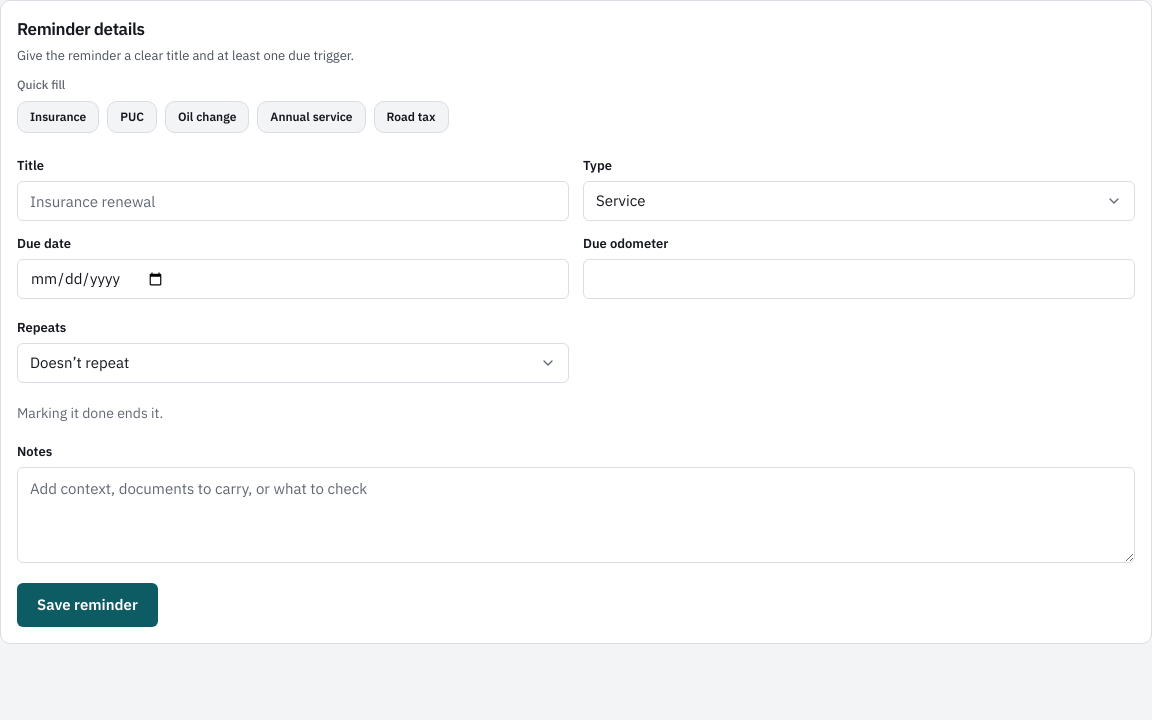
ReminderForm › fills a 6-month rule from the PUC quick fill
This screenshot has width=1152, height=720.
Click the button "PUC": (132,117) [107,101,157,133]
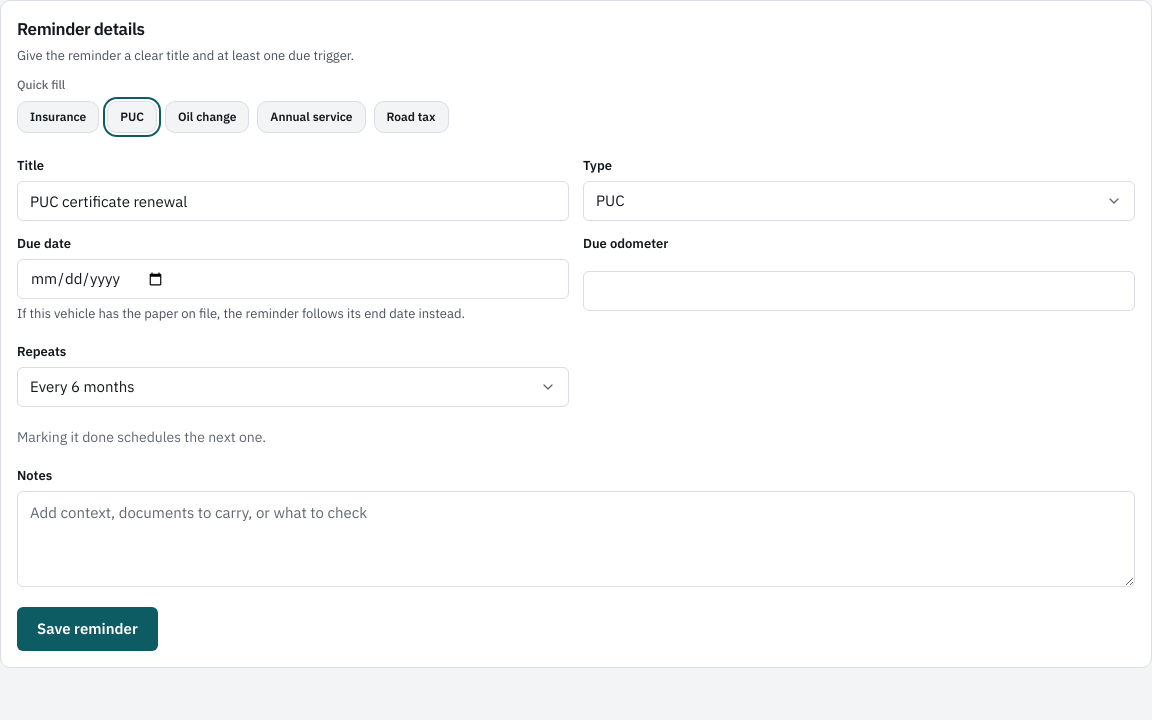
Now the dropdown named "repeats" reads "Every 6 months", box [17,367,569,407]
